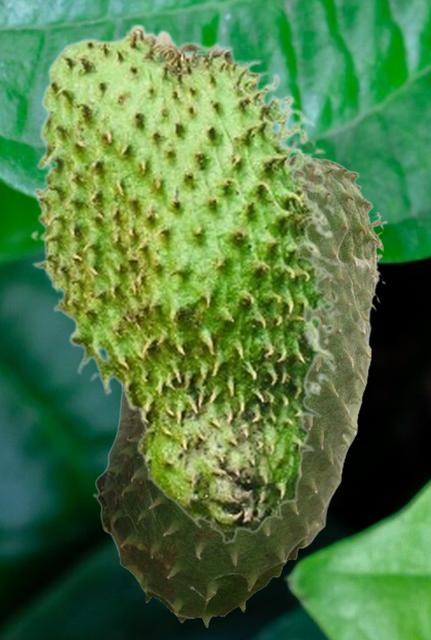guyabano: (29, 22, 342, 544), (92, 155, 386, 626)
